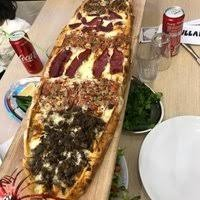lahmacun: (24, 77, 122, 198), (123, 76, 163, 133)
